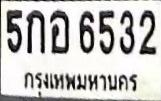2: (138, 9, 156, 54)
3: (118, 9, 134, 54)
5: (98, 10, 114, 54), (6, 9, 21, 52)
6: (78, 10, 93, 53)
A01: (26, 9, 44, 53)
A43: (49, 9, 69, 53)
BKK: (18, 67, 140, 97)
